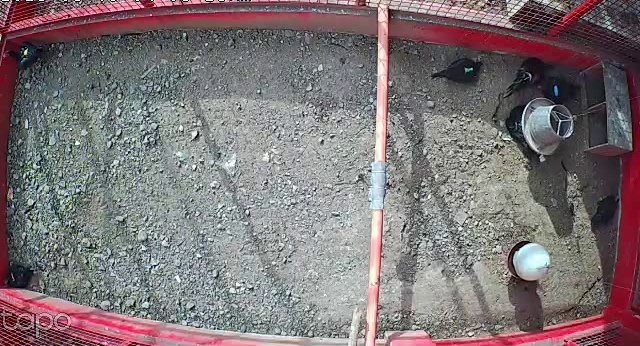Chicken: (1, 40, 47, 73), (539, 71, 582, 106), (431, 58, 482, 85), (589, 192, 622, 231), (1, 263, 33, 293)
Rooster: (504, 53, 555, 101)
Saddle_Color_Blue: (553, 84, 558, 95)
Saddle_Color_Yellow: (21, 47, 28, 59)
